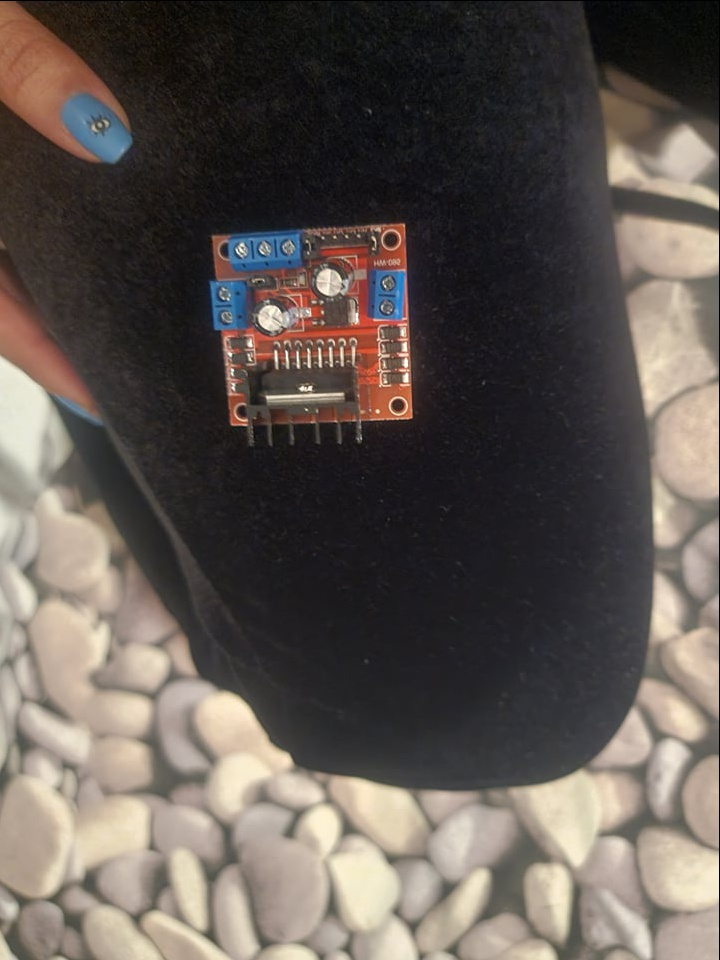MOTOR: (205, 222, 413, 445)
